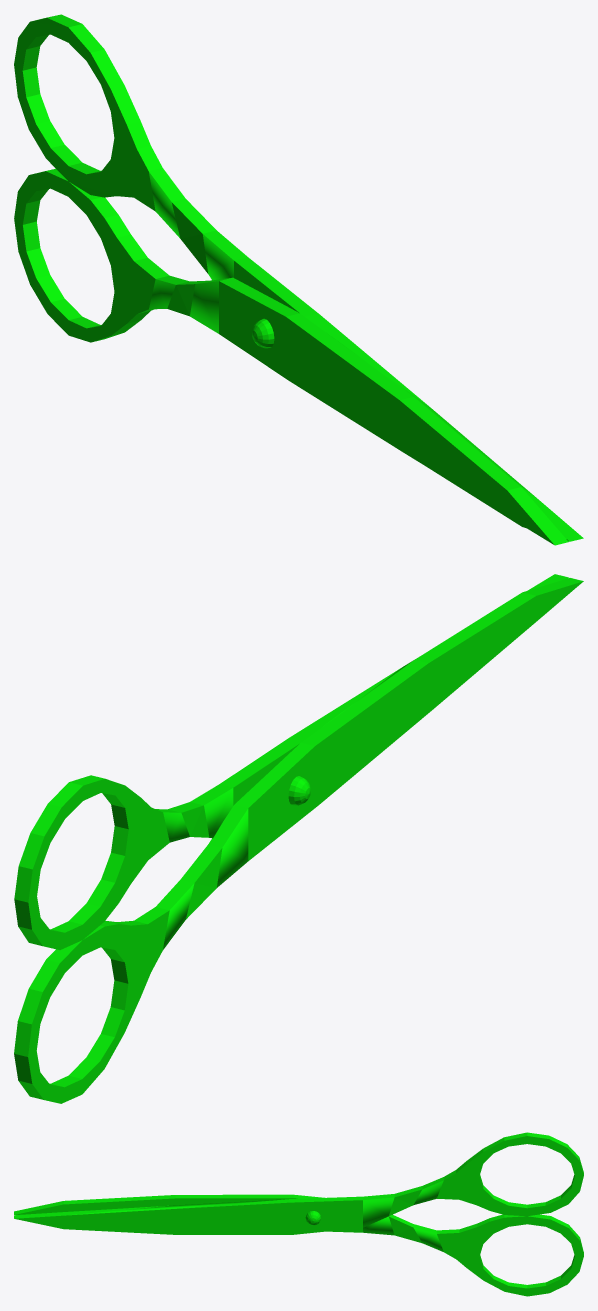
Rendered from scissors1_4.dae.
3 renders of one model, top to bottom at view 1: azimuth 30°, elevation 25°; view 2: azimuth 150°, elevation 25°; view 3: azimuth 270°, elevation 25°, orthographic. The views are drawn at different scales.
Visible parts, largest first — view 1: M003320; view 2: M003320; view 3: M003320.
Boxes of the visible parts, box(x1,y1,x2,y2) form: M003320: box(14, 14, 583, 545); M003320: box(14, 574, 583, 1103); M003320: box(14, 1132, 583, 1296).
Size of the model in its own units: 0.0156 by 0.2706 by 0.084.
